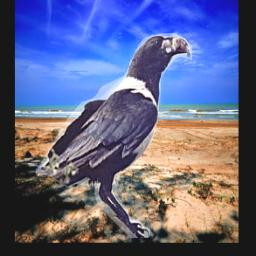Crow: (35, 33, 191, 238)
